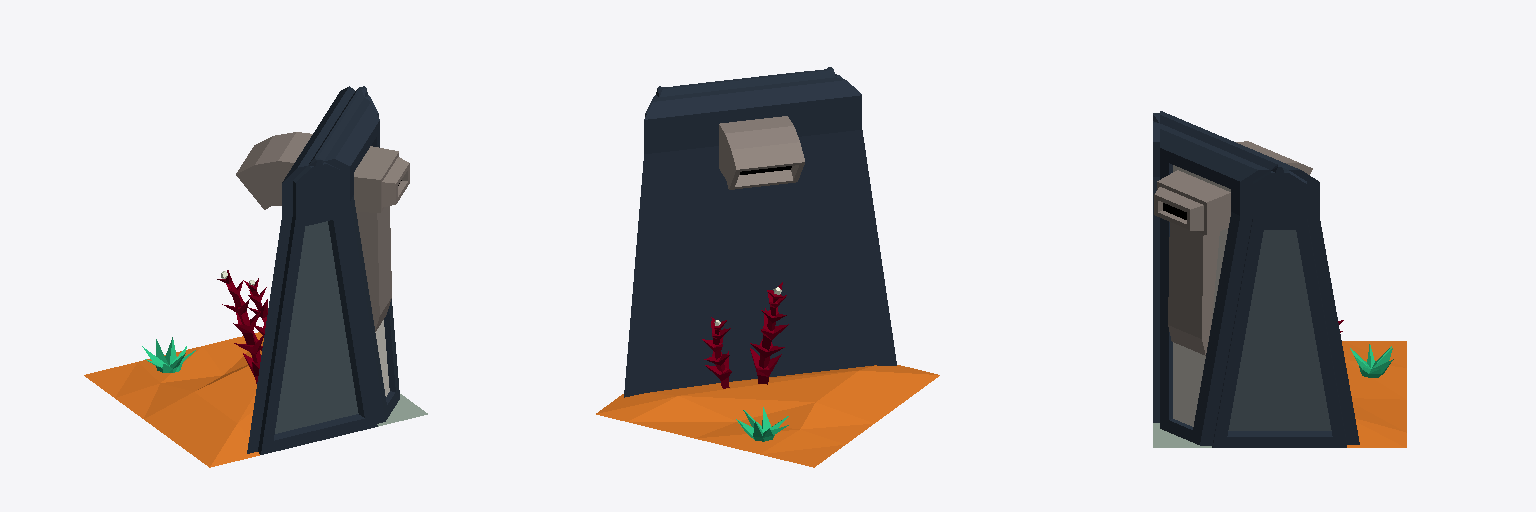
3 renders of one model, left to right at view 1: azimuth 30°, elevation 25°; view 2: azimuth 150°, elevation 25°; view 3: azimuth 270°, elevation 25°, orthographic.
Parts seen in each view (by area): view 1: Plane.001_Plane.011; view 2: Plane.001_Plane.011; view 3: Plane.001_Plane.011.
Boxes of the visible parts, x1=… form: Plane.001_Plane.011: x1=84, y1=86, x2=427, y2=467; Plane.001_Plane.011: x1=596, y1=67, x2=939, y2=467; Plane.001_Plane.011: x1=1153, y1=111, x2=1406, y2=447.
Bounding box in the file's own units: 2 × 2.48 × 2.
Materials: 1 (1 with a texture image).